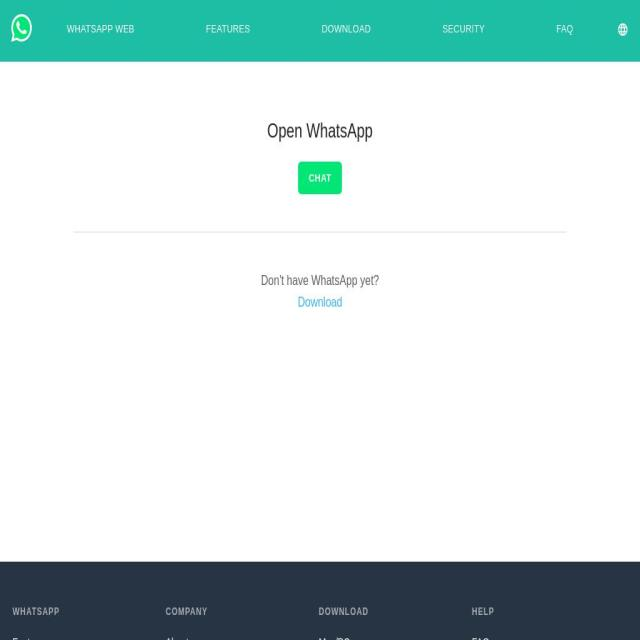button: (604, 5, 640, 57), (298, 162, 342, 194)
heading: (74, 120, 566, 142), (12, 606, 152, 617), (318, 606, 458, 617), (166, 606, 304, 617), (472, 606, 610, 617)
image: (5, 6, 33, 52), (617, 22, 629, 38)
link: (79, 38, 147, 54), (334, 38, 383, 54), (218, 38, 263, 54), (454, 38, 498, 54), (298, 295, 343, 309), (569, 38, 586, 54), (12, 636, 47, 640), (318, 636, 351, 640), (166, 636, 190, 640), (472, 636, 490, 640)
text: (260, 274, 378, 288)
